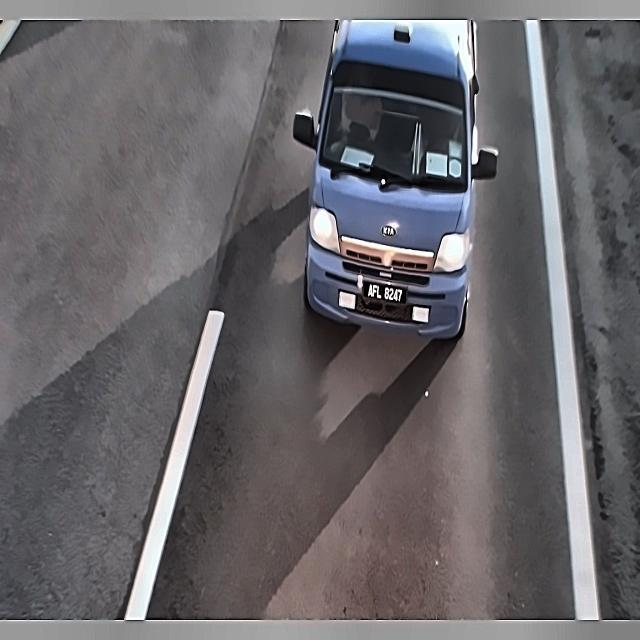car: (360, 277, 410, 309)
